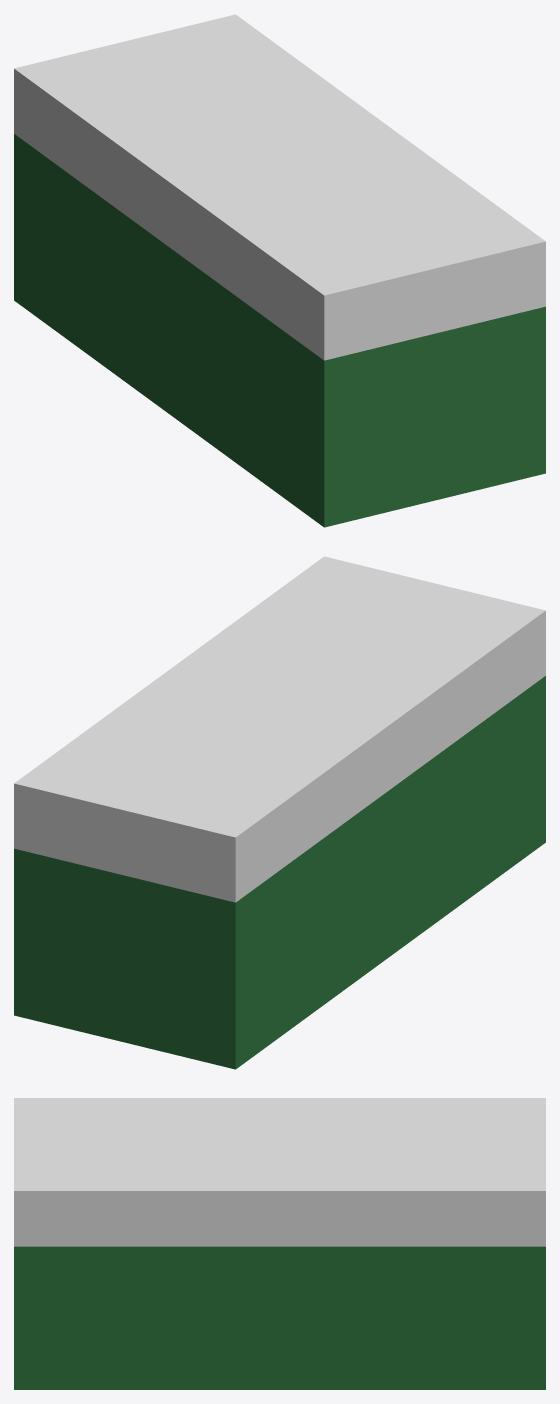
File: snowBush.fbx
3 views of the same model, one above another, from view 1: azimuth 30°, elevation 25°; view 2: azimuth 150°, elevation 25°; view 3: azimuth 270°, elevation 25° (orthographic). The views are drawn at different scales.
Visible parts, largest first — view 1: pCube106; view 2: pCube106; view 3: pCube106.
Boxes of the visible parts, box(x1,y1,x2,y2) form: pCube106: box(14, 14, 545, 527); pCube106: box(14, 556, 545, 1069); pCube106: box(14, 1098, 545, 1389).
Bounding box in the file's own units: 4.04 × 4.04 × 9.79.
